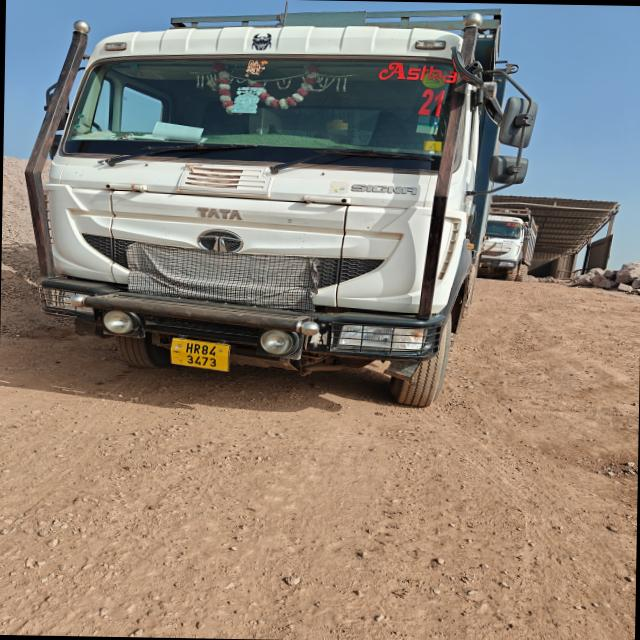license_plate: (171, 338, 230, 371)
